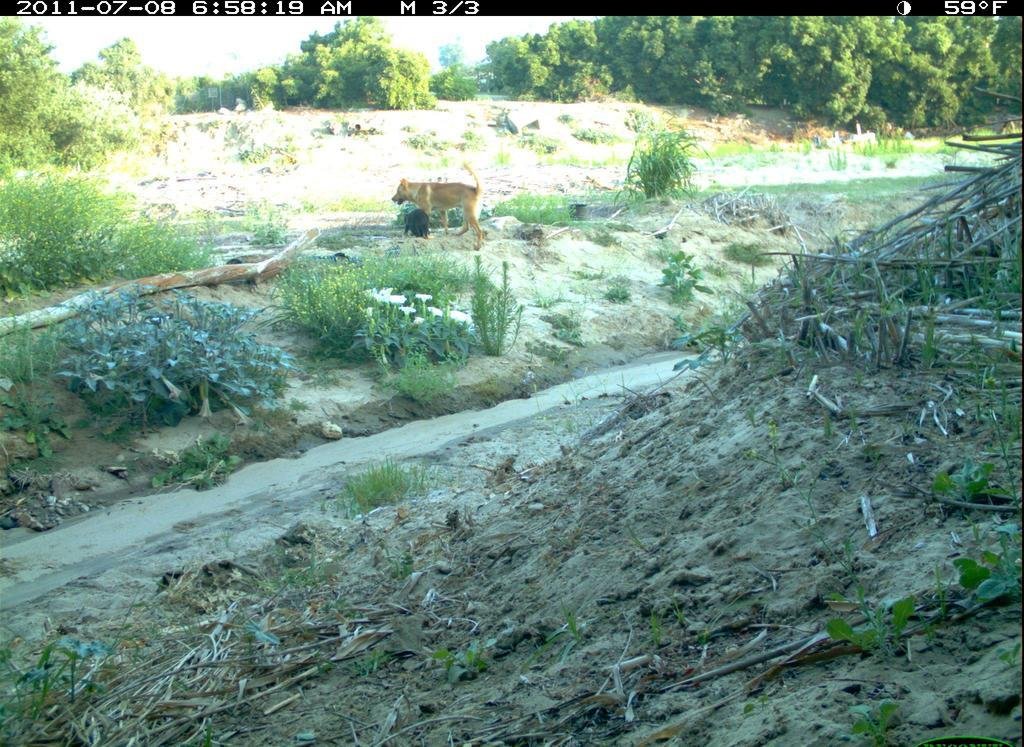dog: (390, 162, 497, 255), (399, 208, 436, 245)
